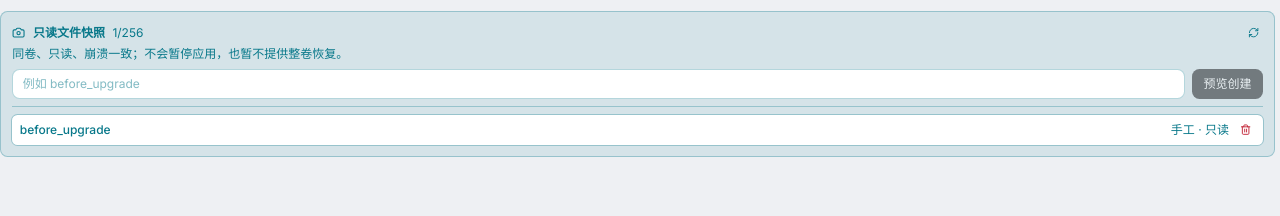
BtrfsSnapshotPanel › states the crash-consistency boundary and previews portable names
Expected: the text "同卷、只读、崩溃一致；不会暂停应用，也暂不提供整卷恢复。" is shown, top-left (12, 46), bottom-right (348, 61)
Type "nightly_1" into the field named "Photos 的快照名称".
click(599, 84); type("nightly_1")  # box top-left (12, 68), bottom-right (1185, 98)
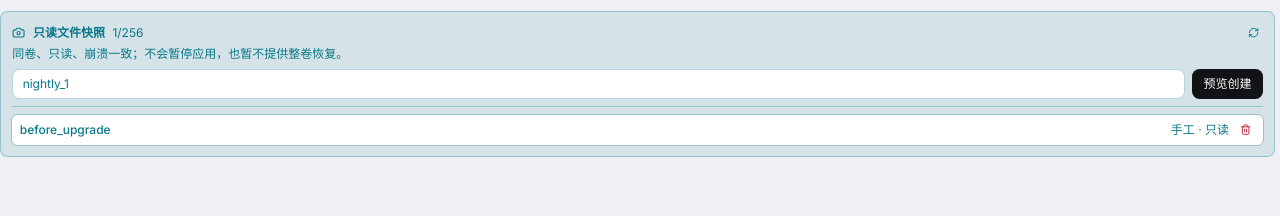
Click the button "预览创建".
click(1227, 84)  # box top-left (1192, 68), bottom-right (1263, 98)
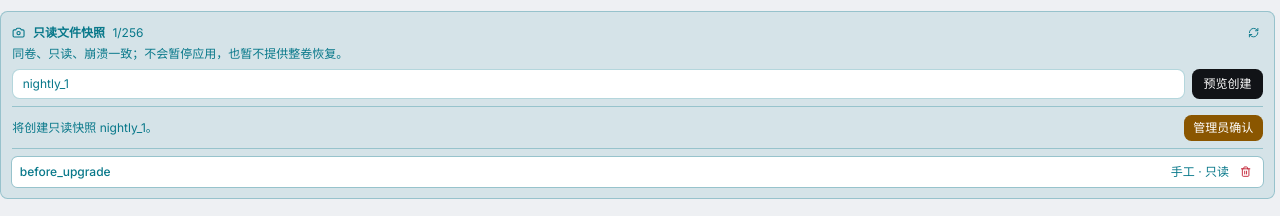
Expected: the text "将创建只读快照 nightly_1。" is shown, top-left (12, 119), bottom-right (158, 137)
